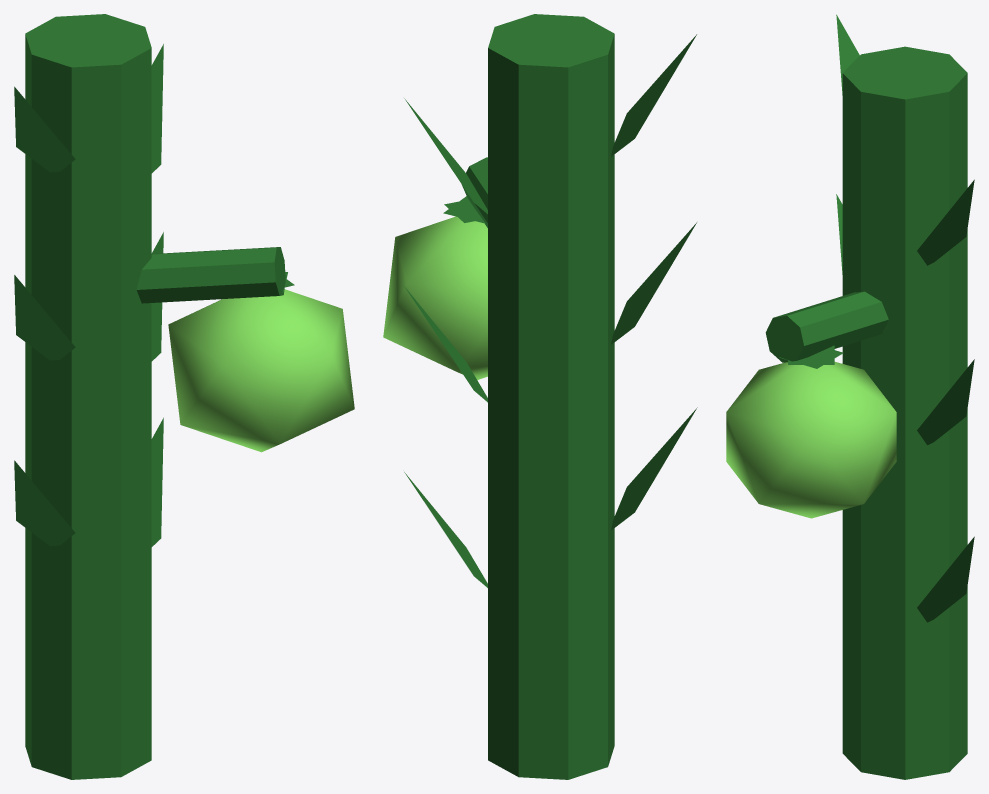
Rendered from tomatoe_stage_2.glb.
The picture shows the model from 3 angles, left to right: view 1: azimuth 30°, elevation 25°; view 2: azimuth 150°, elevation 25°; view 3: azimuth 270°, elevation 25°; orthographic projection. The views are drawn at different scales.
Parts seen in each view (by area): view 1: Cylinder.001, Icosphere.001, Cylinder.002, Plane.006, Plane.010, Plane.009, Plane.011, Plane.007, Plane.008; view 2: Cylinder.001, Icosphere.001, Plane.010, Plane.006, Plane.009, Plane.008, Plane.011, Plane.007, Cylinder.002; view 3: Cylinder.001, Icosphere.001, Cylinder.002, Plane.007, Plane.011, Plane.008, Plane.010.
Boxes of the visible parts, x1=… form: Cylinder.001: x1=25, y1=14, x2=151, y2=779; Icosphere.001: x1=168, y1=272, x2=354, y2=452; Cylinder.002: x1=136, y1=247, x2=285, y2=303; Plane.006: x1=14, y1=460, x2=75, y2=546; Plane.010: x1=14, y1=86, x2=75, y2=172; Plane.009: x1=14, y1=275, x2=75, y2=360; Plane.011: x1=151, y1=44, x2=163, y2=173; Plane.007: x1=151, y1=417, x2=163, y2=546; Plane.008: x1=151, y1=232, x2=163, y2=361; Cylinder.001: x1=488, y1=14, x2=614, y2=779; Icosphere.001: x1=383, y1=196, x2=487, y2=379; Plane.010: x1=611, y1=34, x2=696, y2=156; Plane.006: x1=611, y1=407, x2=697, y2=530; Plane.009: x1=611, y1=222, x2=696, y2=344; Plane.008: x1=404, y1=286, x2=487, y2=402; Plane.011: x1=404, y1=98, x2=487, y2=213; Plane.007: x1=404, y1=472, x2=487, y2=587; Cylinder.002: x1=461, y1=157, x2=487, y2=227; Cylinder.001: x1=842, y1=46, x2=967, y2=779; Icosphere.001: x1=726, y1=345, x2=896, y2=518; Cylinder.002: x1=765, y1=291, x2=888, y2=362; Plane.007: x1=917, y1=536, x2=974, y2=622; Plane.011: x1=917, y1=179, x2=974, y2=265; Plane.008: x1=917, y1=359, x2=974, y2=445; Plane.010: x1=836, y1=14, x2=859, y2=95.
Bounding box in the file's own units: 0.4172 × 0.9101 × 0.2978.
